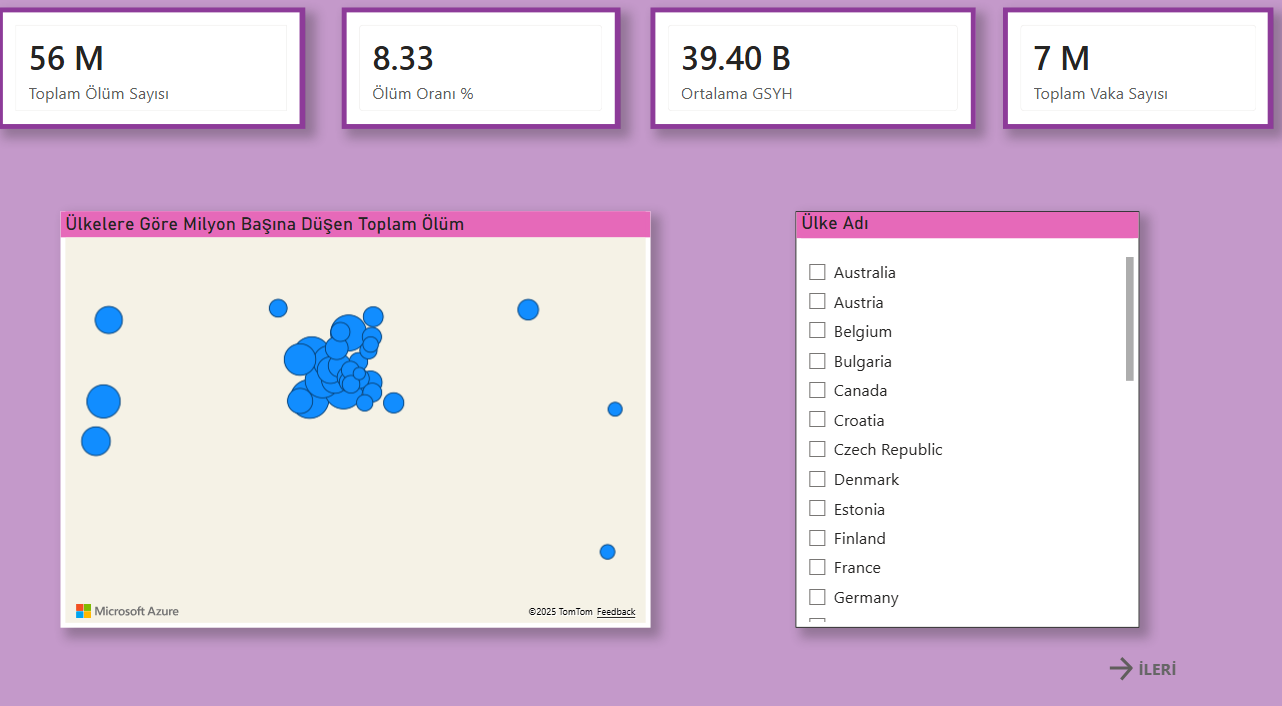

The dashboard page shown, as its layout file describes it:
{"tool":"powerbi","page":{"name":"Genel Bakış","canvas":[1280,720],"ordinal":0},"visuals":[{"type":"cardVisual","fields":{"Data":["owid-covid-data.Toplam Ölüm Ölçüsü"]},"box":[0,22.1,301.8,119],"z":0},{"type":"cardVisual","fields":{"Data":["owid-covid-data.Ölüm Oranı %"]},"box":[337.4,22.1,273.6,119],"z":1000},{"type":"cardVisual","fields":{"Data":["owid-covid-data.Ortalama GSYH"]},"box":[640.5,22.1,319,119],"z":2000},{"type":"cardVisual","fields":{"Data":["owid-covid-data.Toplam Vaka Ölçüsü"]},"box":[986.5,22.1,266.3,119],"z":3000},{"type":"azureMap","title":"Ülkelere Göre Milyon Başına Düşen Toplam Ölüm","fields":{"Category":["owid-covid-data.Ülke Adı"],"Size":["Sum(owid-covid-data.Milyon Başına Toplam Ölüm)"]},"box":[61.4,222.1,579.1,408.6],"z":4000},{"type":"slicer","title":"Ülke Adı","fields":{"Values":["owid-covid-data.Ülke Adı"]},"box":[782.8,222.1,337.4,408.6],"z":5000},{"type":"actionButton","box":[1085.9,655.2,104.3,31.9],"z":6000}]}

Visuals, with their boxes in screenshot pixels (x1, y1, x2, y2), scaled from the page's 1280x720 canvas onto the 1282x706 screenshot:
cardVisual - owid-covid-data.Toplam Ölüm Ölçüsü: (0, 22, 302, 138)
cardVisual - owid-covid-data.Ölüm Oranı %: (338, 22, 612, 138)
cardVisual - owid-covid-data.Ortalama GSYH: (642, 22, 961, 138)
cardVisual - owid-covid-data.Toplam Vaka Ölçüsü: (988, 22, 1255, 138)
"Ülkelere Göre Milyon Başına Düşen Toplam Ölüm" azureMap: (61, 218, 642, 618)
"Ülke Adı" slicer: (784, 218, 1122, 618)
actionButton: (1088, 642, 1192, 674)
